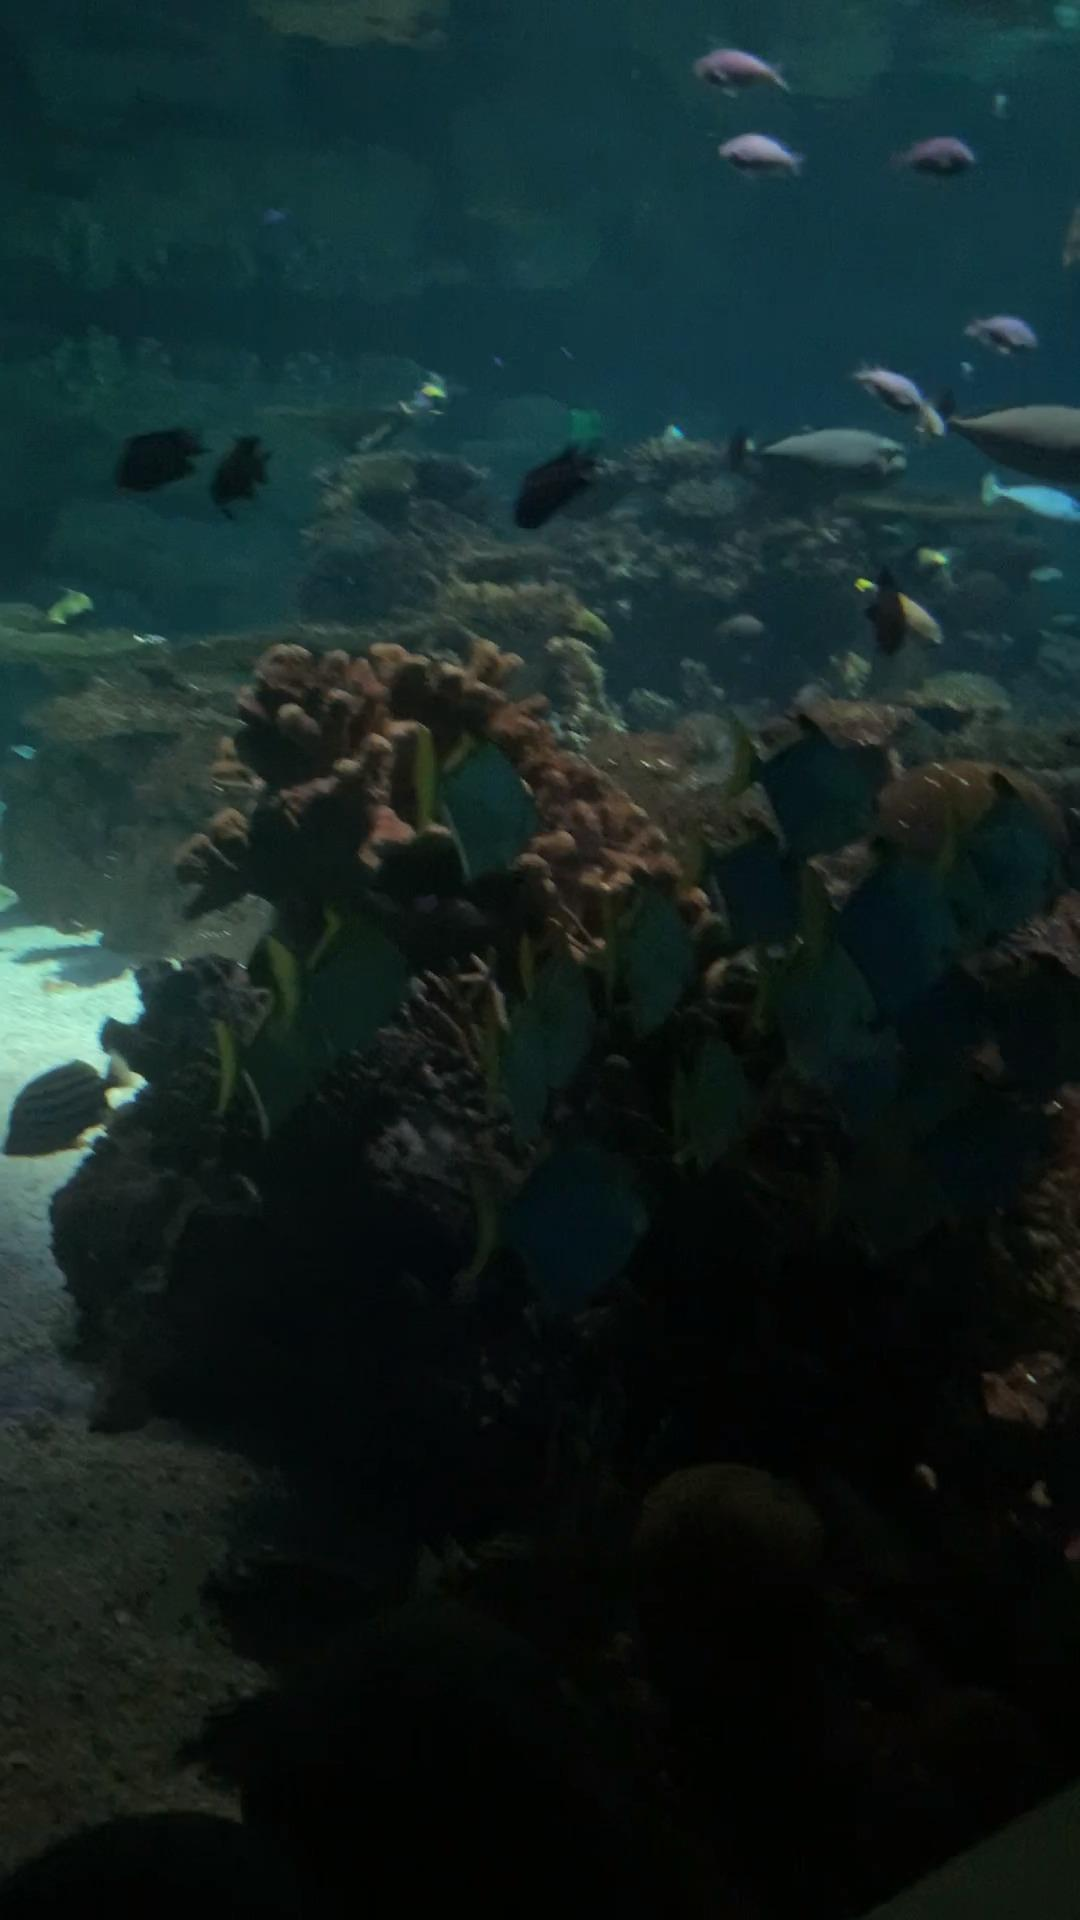fish: (448, 1120, 661, 1335), (800, 823, 978, 1035), (711, 698, 887, 887), (306, 400, 495, 563), (924, 767, 1076, 953), (738, 926, 891, 1109), (265, 894, 421, 1069), (404, 717, 549, 899), (924, 1058, 1058, 1238), (823, 1002, 977, 1158), (204, 988, 349, 1151), (815, 1116, 967, 1267), (583, 866, 702, 1043), (680, 804, 814, 961), (3, 1035, 128, 1189), (724, 414, 922, 509), (978, 945, 1080, 1120), (107, 409, 260, 521), (667, 1023, 771, 1182), (517, 924, 601, 1120), (475, 963, 553, 1160), (927, 397, 1079, 497), (356, 436, 491, 547), (517, 421, 629, 541), (840, 361, 960, 440), (713, 112, 814, 196), (852, 574, 949, 651), (683, 46, 798, 112), (204, 429, 280, 524), (975, 469, 1080, 529), (887, 127, 986, 189), (963, 297, 1044, 369), (862, 562, 902, 665), (394, 378, 454, 427), (258, 207, 287, 229), (556, 345, 578, 364), (489, 353, 508, 372)
